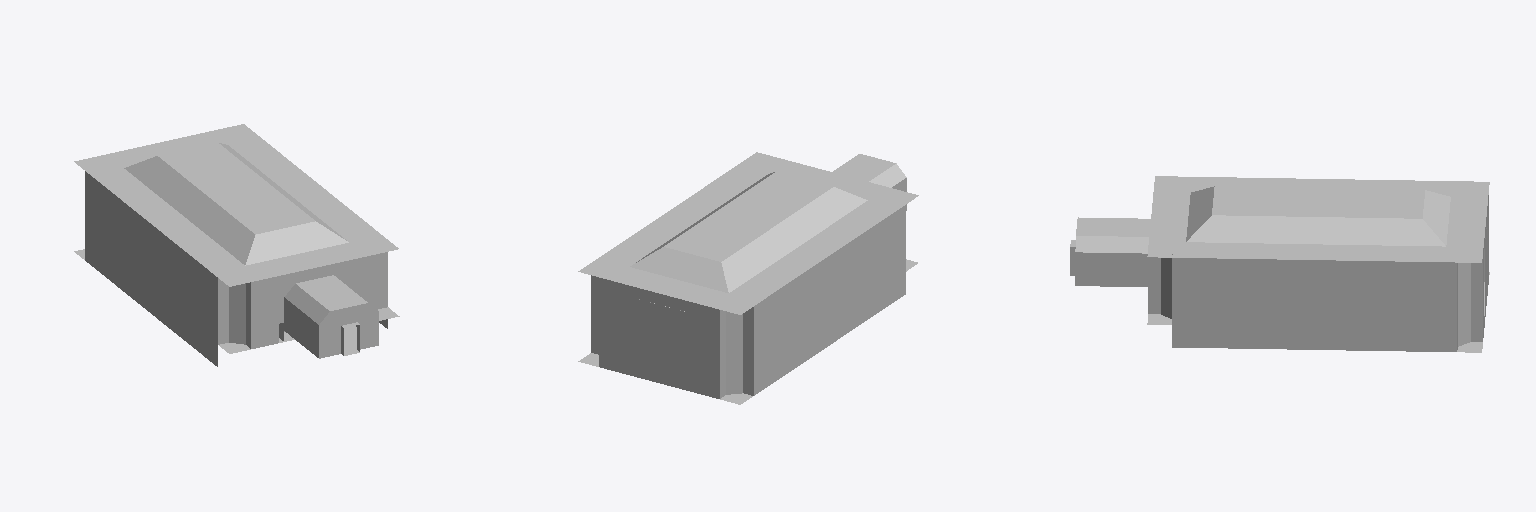
The model's file is whomp's fortress room.obj.
3 renders of one model, left to right at view 1: azimuth 30°, elevation 25°; view 2: azimuth 150°, elevation 25°; view 3: azimuth 270°, elevation 25°, orthographic.
Bounding box in the file's own units: 42.4 × 24.3 × 86.57.